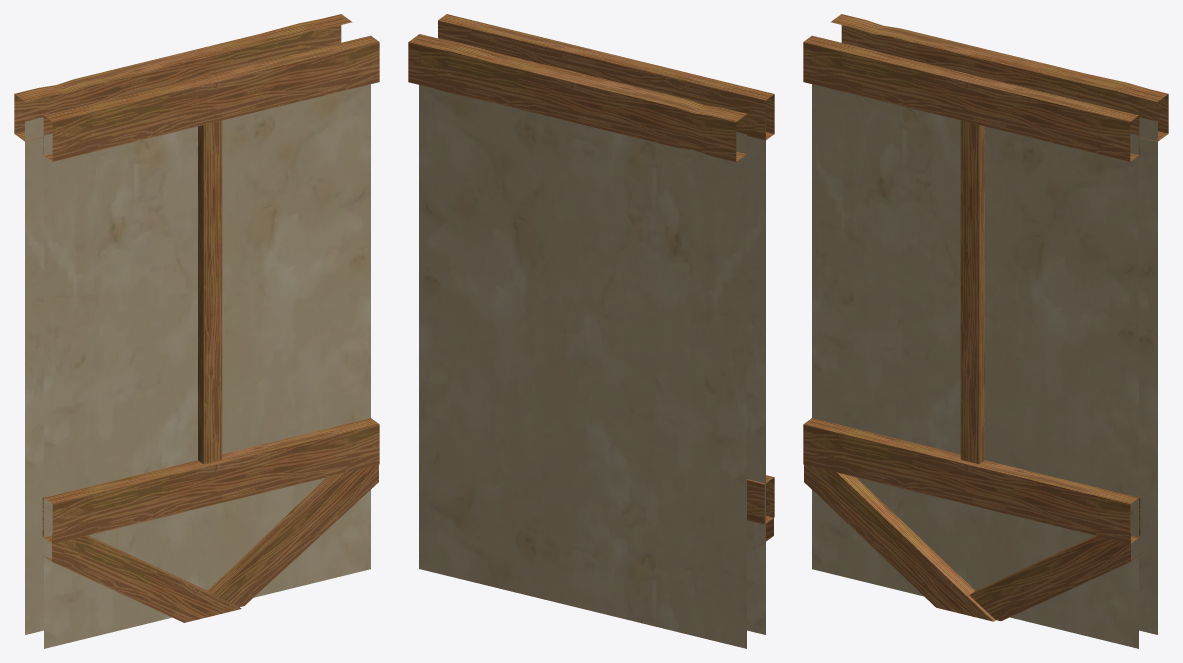
File: Wall_Plaster_Straight.glb
The picture shows the model from 3 angles, left to right: view 1: azimuth 30°, elevation 25°; view 2: azimuth 150°, elevation 25°; view 3: azimuth 330°, elevation 25°; orthographic projection.
Parts seen in each view (by area): view 1: Wall_Plaster_Straight; view 2: Wall_Plaster_Straight; view 3: Wall_Plaster_Straight.
Part boxes in pixels (x1,y1,x2,y2): Wall_Plaster_Straight: (14,14,379,648); Wall_Plaster_Straight: (408,14,774,648); Wall_Plaster_Straight: (803,14,1168,648).
Size of the model in its own units: 2 by 3.12 by 0.4065.
Materials: 2 (2 with a texture image).
